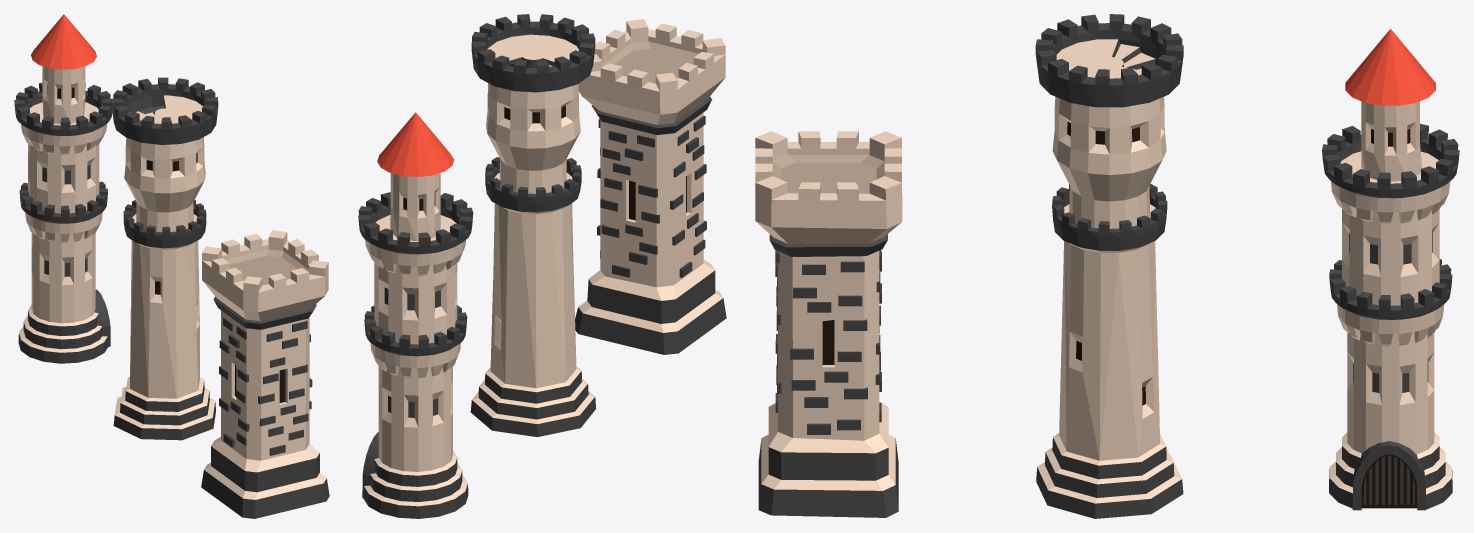
File: tours (source).glb
The picture shows the model from 3 angles, left to right: view 1: azimuth 30°, elevation 25°; view 2: azimuth 150°, elevation 25°; view 3: azimuth 270°, elevation 25°; orthographic projection. The views are drawn at different scales.
Visible parts, largest first — view 1: Castle.008, Castle.004, Castle.010; view 2: Castle.008, Castle.004, Castle.010; view 3: Castle.008, Castle.004, Castle.010.
Boxes of the visible parts, x1,y1,x2,y2 form: Castle.008: (111,77,218,440); Castle.004: (201,230,329,518); Castle.010: (14,14,112,363); Castle.008: (470,14,595,436); Castle.004: (575,19,726,354); Castle.010: (358,112,473,518); Castle.008: (1035,14,1183,518); Castle.004: (755,131,902,517); Castle.010: (1322,29,1459,510).
Size of what is drawn, in the model's own units: 4.23 by 14.42 by 20.04.
Materials: 1 (1 with a texture image).
